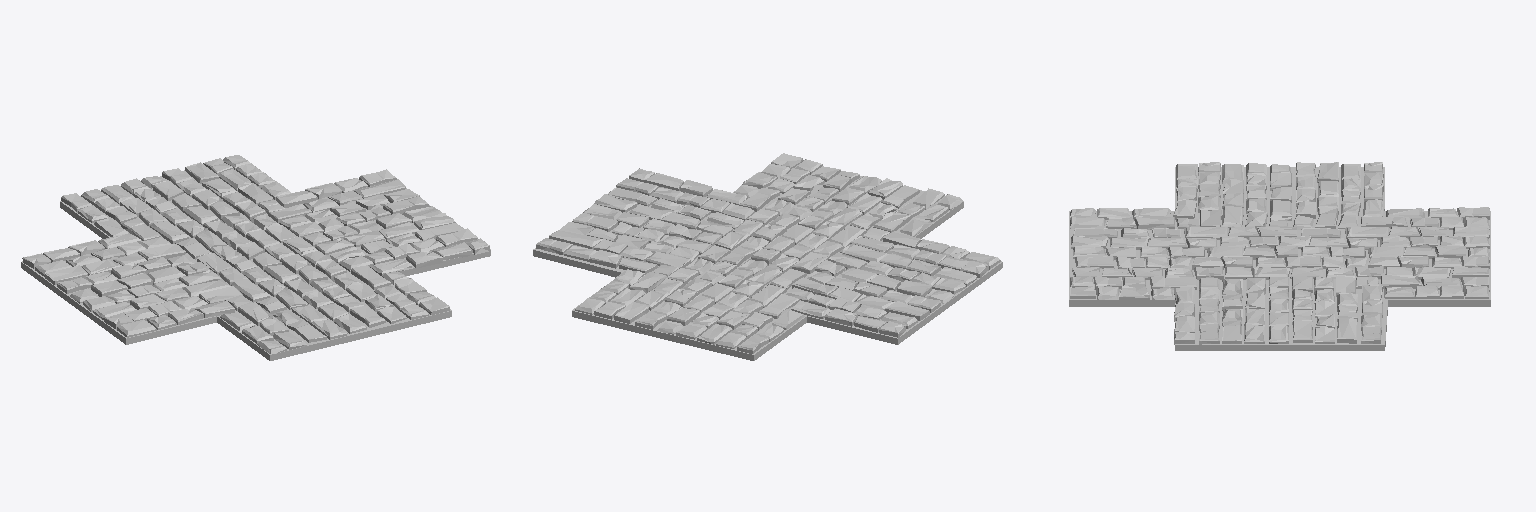
File: aStoneRoad2.obj
The picture shows the model from 3 angles: view 1: azimuth 30°, elevation 25°; view 2: azimuth 150°, elevation 25°; view 3: azimuth 270°, elevation 25°; orthographic projection.
Visible parts, largest first — view 1: Road_breek_3_Mesh.050; view 2: Road_breek_3_Mesh.050; view 3: Road_breek_3_Mesh.050.
Part boxes in pixels (bbox=[...]): Road_breek_3_Mesh.050: bbox=[21, 155, 490, 360]; Road_breek_3_Mesh.050: bbox=[533, 153, 1002, 360]; Road_breek_3_Mesh.050: bbox=[1069, 162, 1490, 350].
Bounding box in the file's own units: 6 × 0.1922 × 6.